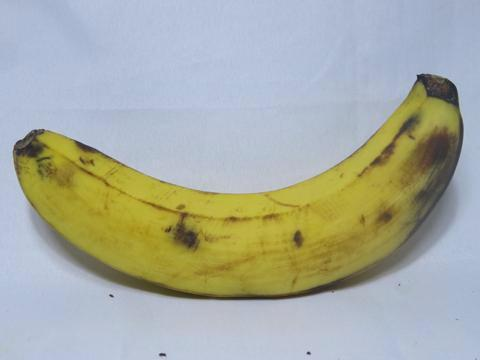ripe: (9, 63, 479, 321)
